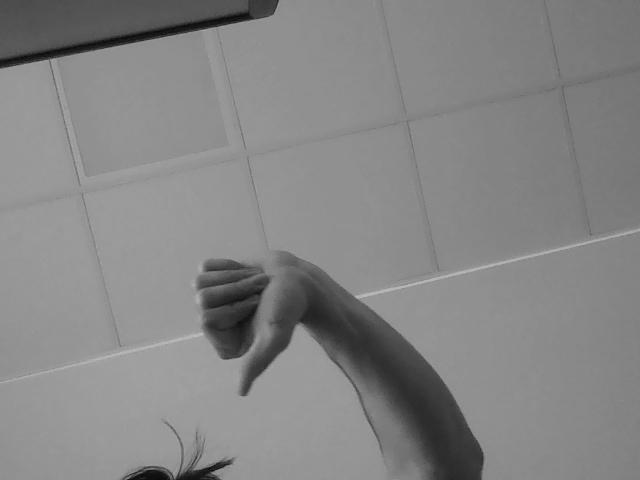bad: (174, 223, 326, 405)
